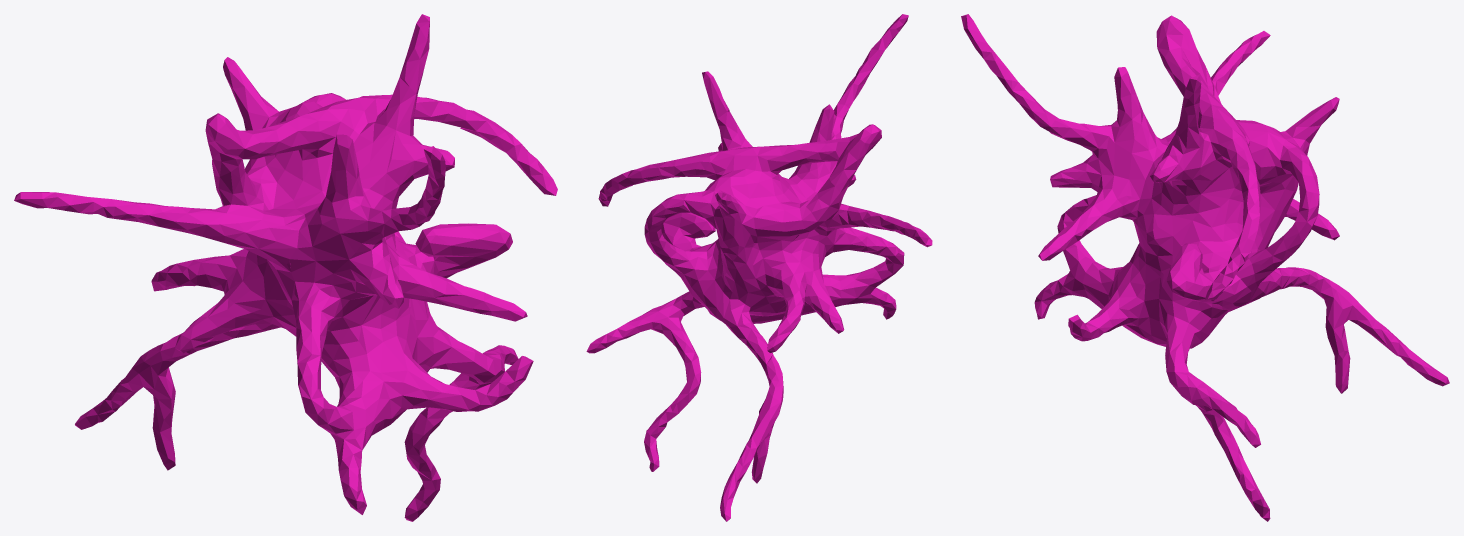
File: 血小板.obj
3 views of the same model, side by side, from view 1: azimuth 30°, elevation 25°; view 2: azimuth 150°, elevation 25°; view 3: azimuth 270°, elevation 25° (orthographic). The views are drawn at different scales.
Parts seen in each view (by area): view 1: VRayProxy005; view 2: VRayProxy005; view 3: VRayProxy005.
Boxes of the visible parts, x1,y1,x2,y2 form: VRayProxy005: (14, 14, 557, 521); VRayProxy005: (586, 14, 932, 521); VRayProxy005: (961, 14, 1449, 521).
Bounding box in the file's own units: 1.74 × 1.82 × 1.83.
